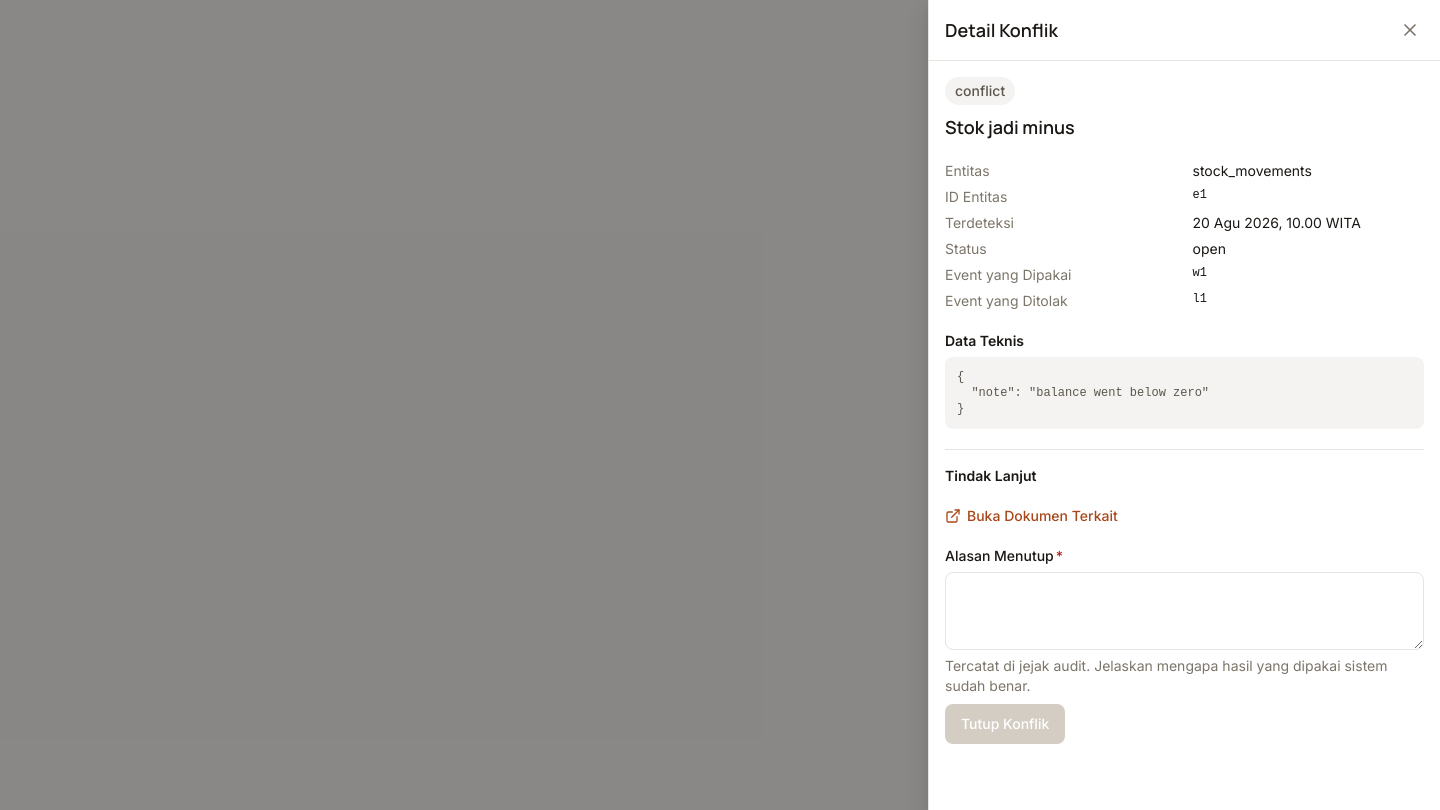
ConflictDetailDrawer › offers dismissal with a mandatory reason for an engine-settled race
This screenshot has width=1440, height=810.
expect the button "Tutup Konflik" is disabled: met, box [945,704,1065,744]
Type "event pemenang sudah benar" into the text box labelled "Alasan Menutup*". click: [1184, 611]
box: [945,572,1424,650]
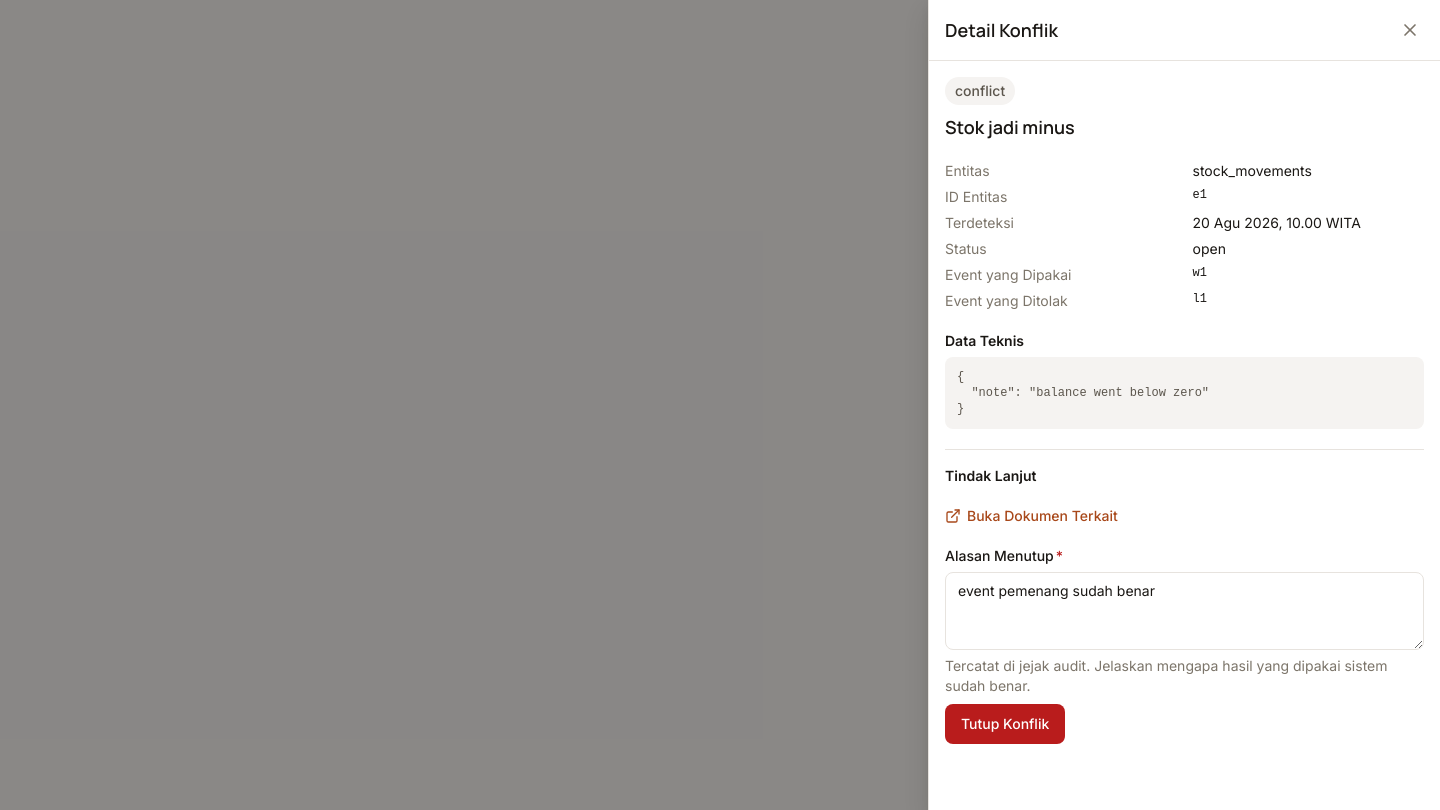
expect the button "Tutup Konflik" is enabled: met, box [945,704,1065,744]
